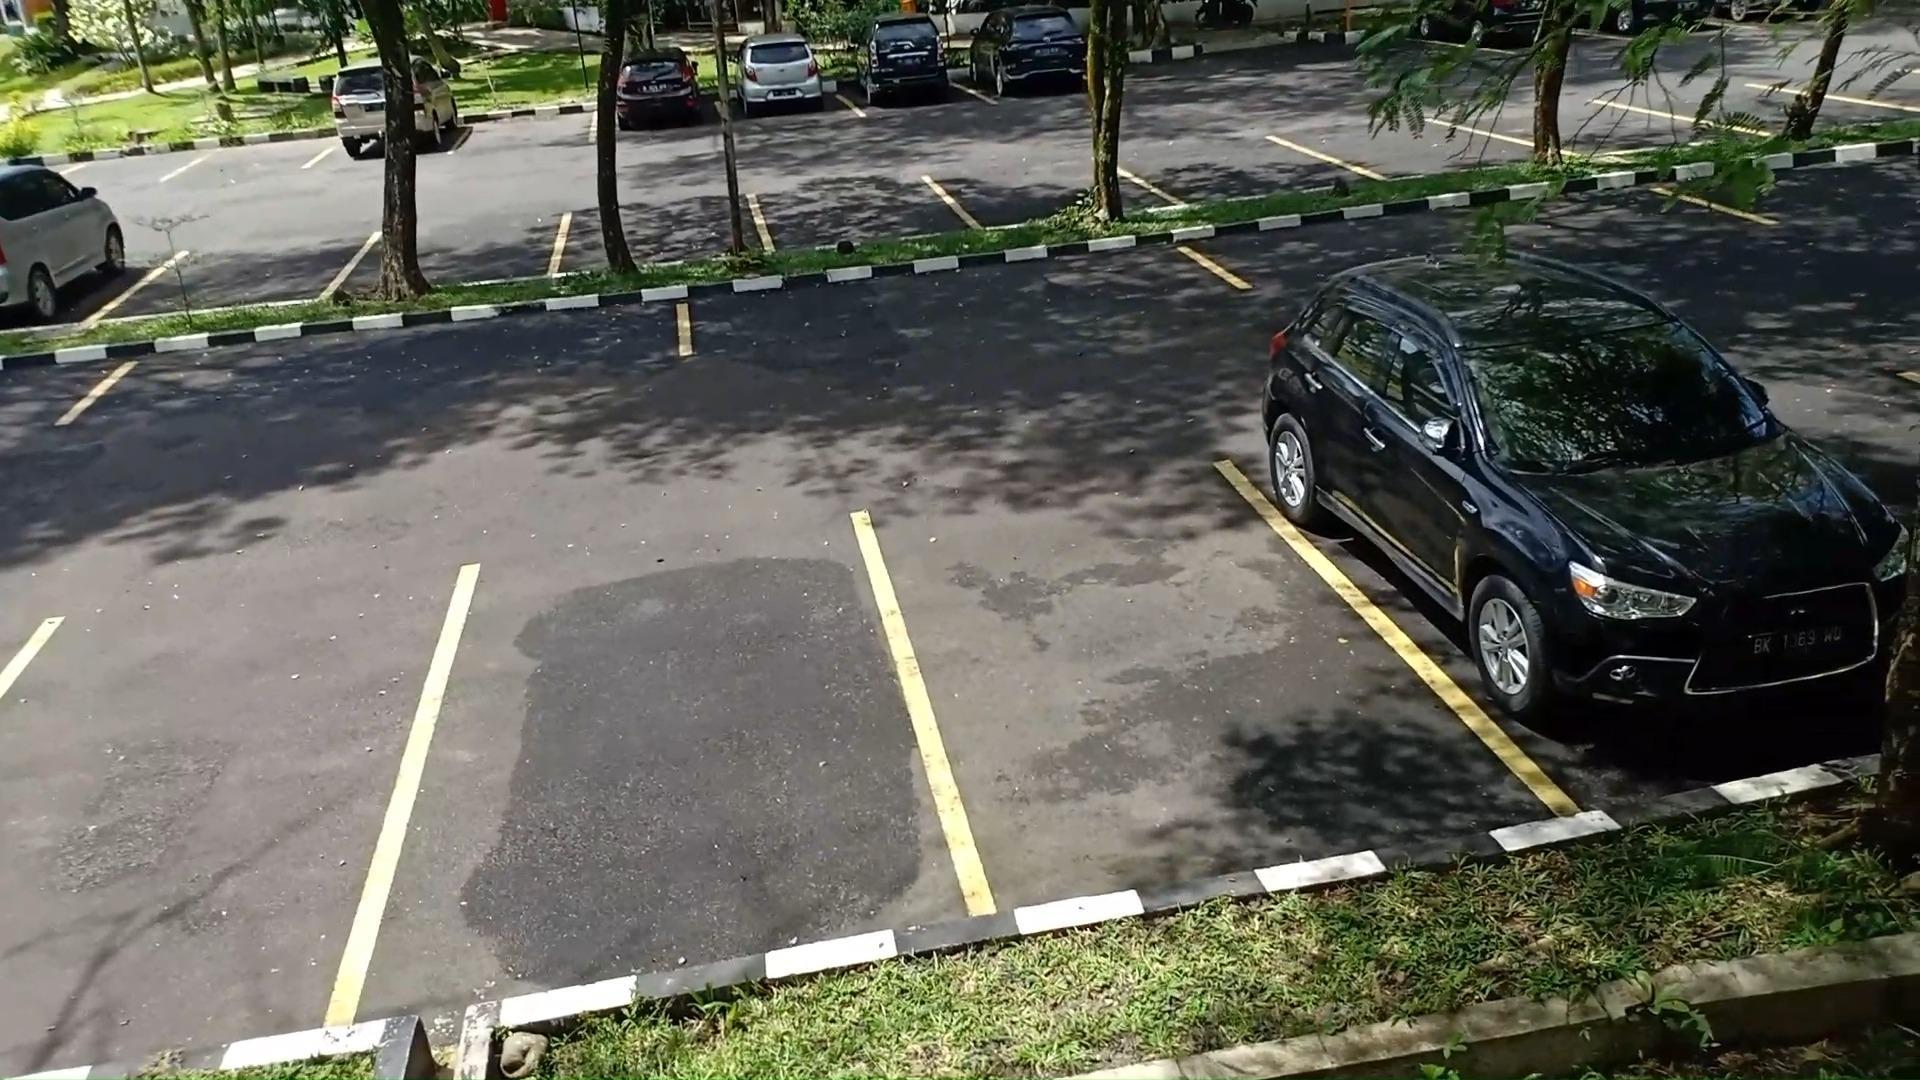empty: (401, 560, 901, 988), (908, 448, 1336, 895), (0, 620, 411, 1031), (76, 319, 690, 432), (680, 266, 1228, 360), (135, 229, 366, 309), (356, 209, 568, 284), (758, 179, 960, 254), (558, 194, 762, 266), (1145, 134, 1335, 202), (949, 159, 1140, 226), (171, 123, 318, 181), (458, 101, 600, 153)
occupied: (1297, 395, 1871, 795), (0, 183, 142, 331), (312, 96, 468, 168), (848, 48, 961, 118)
